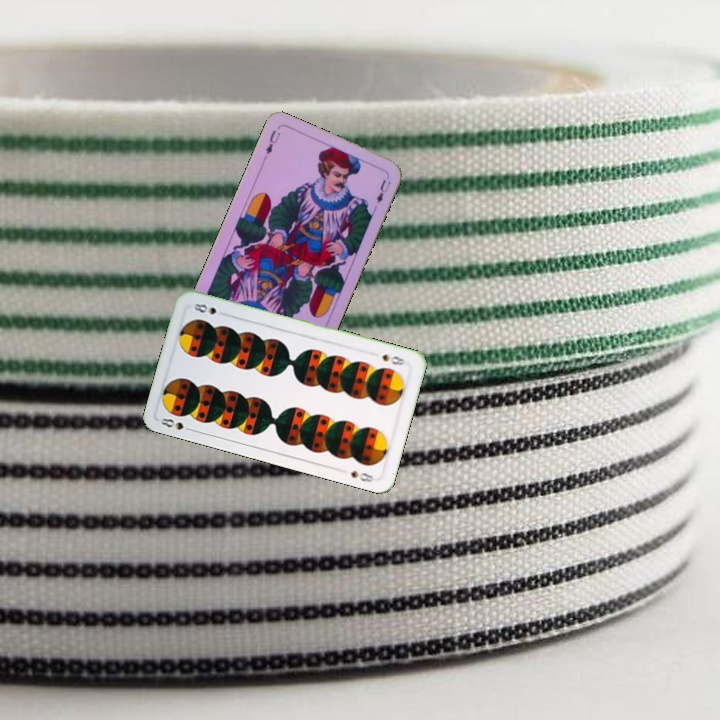EU: (261, 126, 283, 157)
S8: (156, 414, 196, 434), (378, 350, 411, 368)
